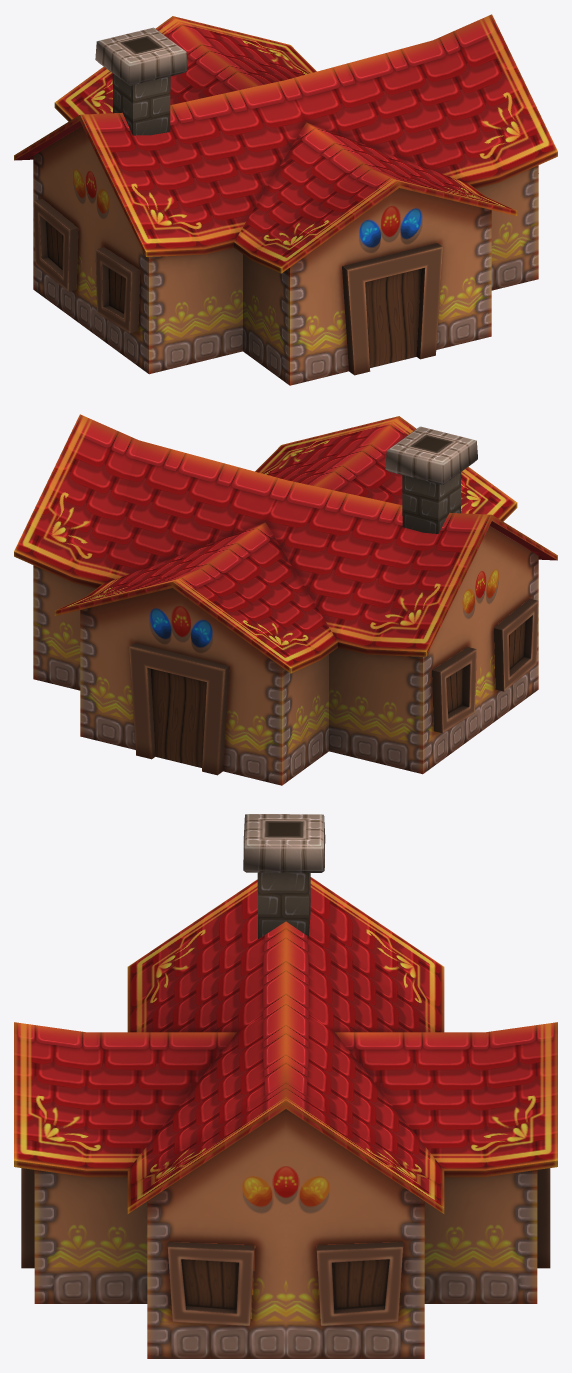
File: House_06.FBX
3 renders of one model, top to bottom at view 1: azimuth 30°, elevation 25°; view 2: azimuth 150°, elevation 25°; view 3: azimuth 270°, elevation 25°, orthographic. The views are drawn at different scales.
Parts seen in each view (by area): view 1: House_06; view 2: House_06; view 3: House_06.
Boxes of the visible parts, x1,y1,x2,y2 form: House_06: (14,14,557,385); House_06: (14,414,557,785); House_06: (14,814,557,1358).
Size of the model in its own units: 2.51 by 1.61 by 2.39.
